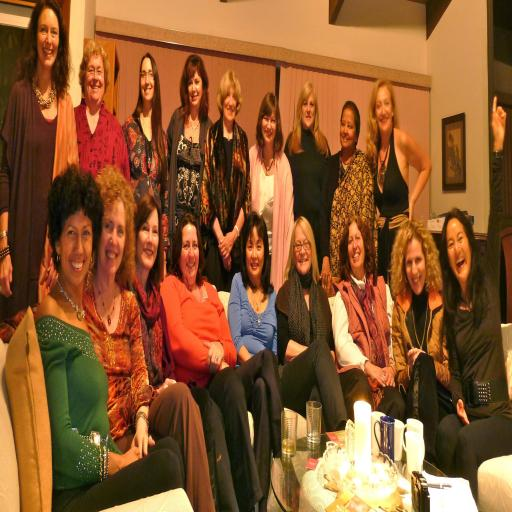person: (36, 168, 182, 511), (83, 167, 214, 511), (161, 214, 263, 511), (437, 98, 511, 501), (0, 0, 78, 319), (228, 211, 283, 510), (276, 217, 347, 431), (333, 216, 405, 420), (392, 221, 452, 464), (367, 80, 431, 284), (201, 71, 250, 291), (320, 101, 376, 289), (123, 53, 169, 252), (129, 195, 175, 389), (250, 93, 293, 292), (167, 55, 212, 244), (285, 83, 330, 268), (75, 41, 130, 182)
